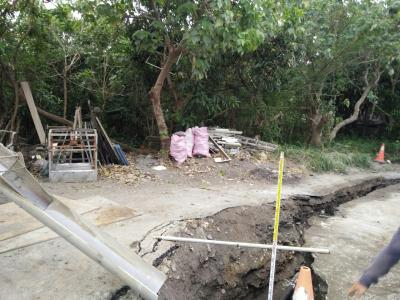plastic_bag: (170, 130, 186, 164), (192, 126, 210, 156), (185, 128, 194, 159)
